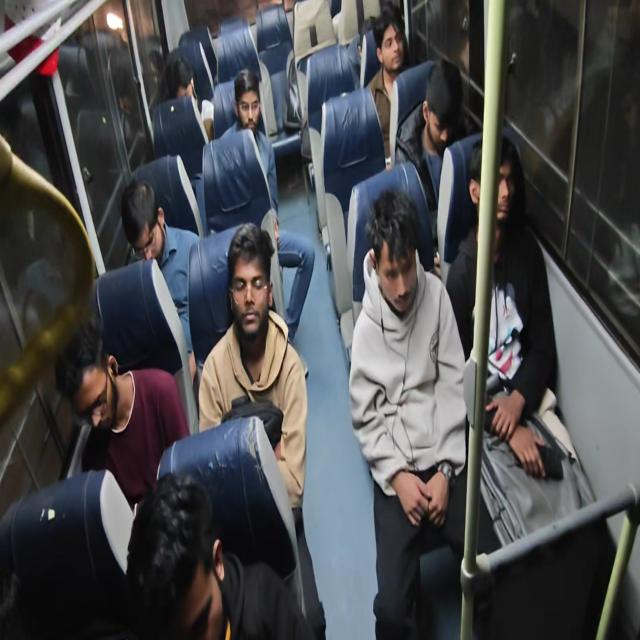person: (125, 492, 276, 640), (77, 306, 129, 513), (468, 150, 552, 269), (372, 184, 438, 316), (155, 44, 234, 148), (212, 212, 280, 326), (117, 160, 172, 262), (422, 76, 470, 153), (218, 58, 264, 131), (347, 2, 397, 66), (378, 0, 413, 66)
